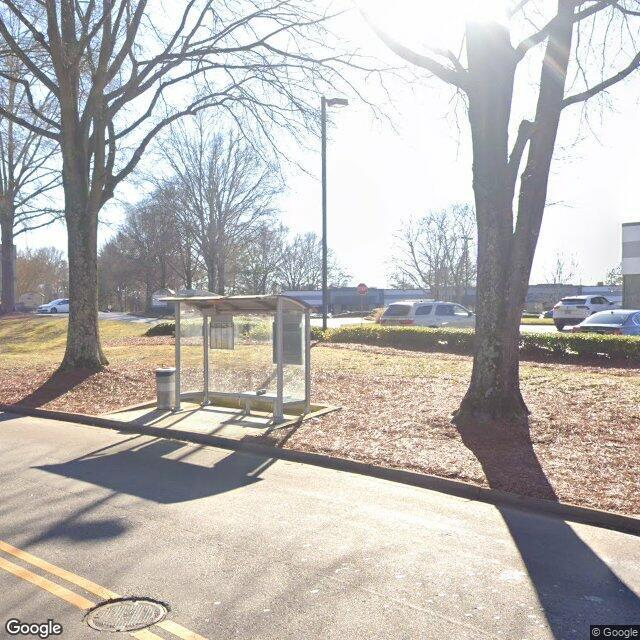seating: (237, 389, 280, 421)
shelter: (151, 290, 324, 427)
trash_can: (156, 366, 177, 411)
